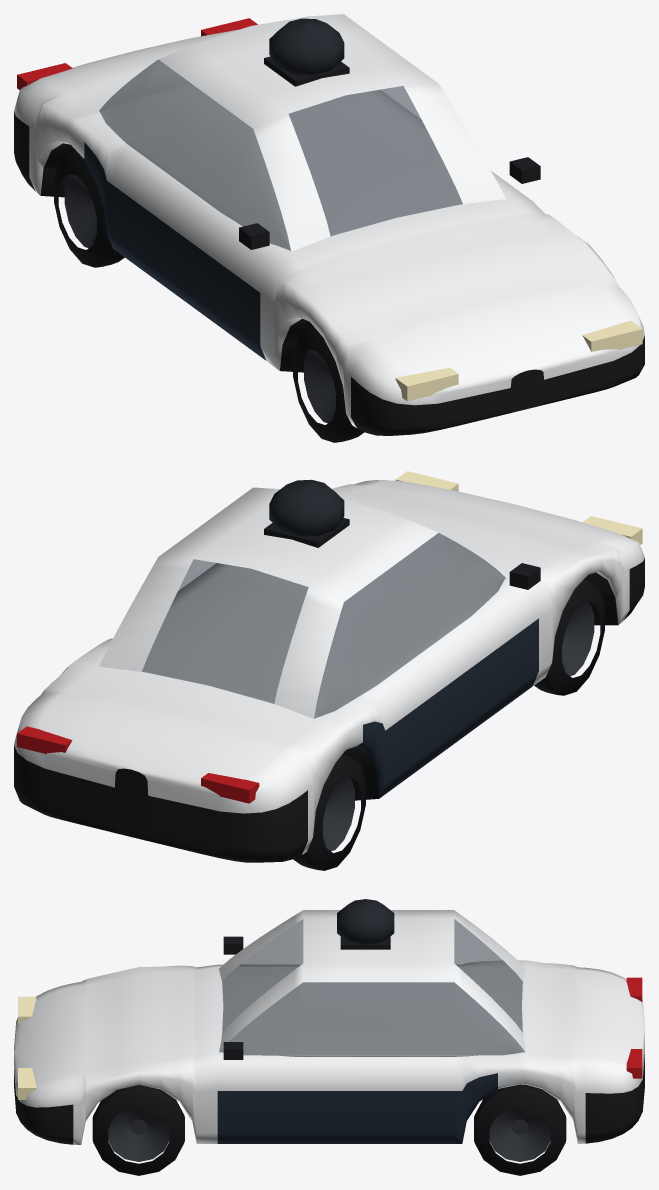
File: mobile.glb
3 renders of one model, top to bottom at view 1: azimuth 30°, elevation 25°; view 2: azimuth 150°, elevation 25°; view 3: azimuth 270°, elevation 25°, orthographic. The views are drawn at different scales.
Parts seen in each view (by area): view 1: body, glass, dome, tyre_rr, tyre_fr, rim_rr, rim_fr, light_head_r, light_head_l; view 2: body, glass, dome, tyre_rr, tyre_fr, rim_fr, rim_rr, light_brake_r, light_brake_l, light_head_r, light_head_l; view 3: body, glass, tyre_rl, tyre_fl, rim_fl, rim_rl, dome, light_head_l, light_brake_l, light_head_r.
Boxes of the visible parts, x1=… form: body: x1=14, y1=14, x2=644, y2=435; glass: x1=99, y1=59, x2=462, y2=250; dome: x1=269, y1=18, x2=344, y2=75; tyre_rr: x1=54, y1=151, x2=124, y2=267; tyre_fr: x1=293, y1=327, x2=364, y2=442; rim_rr: x1=64, y1=174, x2=96, y2=248; rim_fr: x1=304, y1=349, x2=335, y2=423; light_head_r: x1=395, y1=367, x2=458, y2=401; light_head_l: x1=582, y1=321, x2=642, y2=351; body: x1=14, y1=480, x2=644, y2=862; glass: x1=142, y1=533, x2=505, y2=718; dome: x1=269, y1=479, x2=344, y2=536; tyre_rr: x1=293, y1=754, x2=365, y2=870; tyre_fr: x1=534, y1=579, x2=604, y2=695; rim_fr: x1=562, y1=602, x2=594, y2=676; rim_rr: x1=323, y1=777, x2=354, y2=851; light_brake_r: x1=201, y1=773, x2=259, y2=803; light_brake_l: x1=17, y1=726, x2=72, y2=753; light_head_r: x1=582, y1=516, x2=642, y2=544; light_head_l: x1=395, y1=471, x2=458, y2=491; body: x1=14, y1=910, x2=644, y2=1144; glass: x1=219, y1=919, x2=524, y2=1055; tyre_rl: x1=474, y1=1084, x2=566, y2=1175; tyre_fl: x1=92, y1=1085, x2=184, y2=1175; rim_fl: x1=108, y1=1107, x2=169, y2=1161; rim_rl: x1=489, y1=1107, x2=550, y2=1161; dome: x1=337, y1=899, x2=394, y2=944; light_head_l: x1=18, y1=1068, x2=36, y2=1099; light_brake_l: x1=626, y1=1049, x2=642, y2=1078; light_head_r: x1=18, y1=996, x2=36, y2=1024.
Size of what is drawn, in the model's own units: 2.03 by 1.88 by 4.8.
